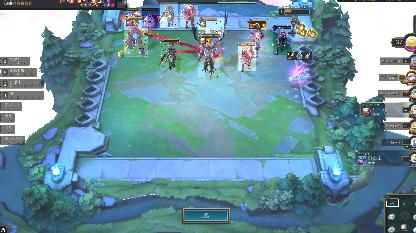1_hecarim: (238, 43, 256, 71), (180, 3, 198, 27)
1_nomsy: (142, 8, 160, 28), (122, 8, 140, 28)
1_rell: (160, 38, 180, 70), (160, 2, 178, 28)
2_diana: (273, 25, 291, 55)
2_nilah: (246, 19, 268, 51)
2_qiyana: (198, 18, 226, 34)
2_swain: (198, 35, 220, 77)
3_rengar: (124, 17, 148, 57)
